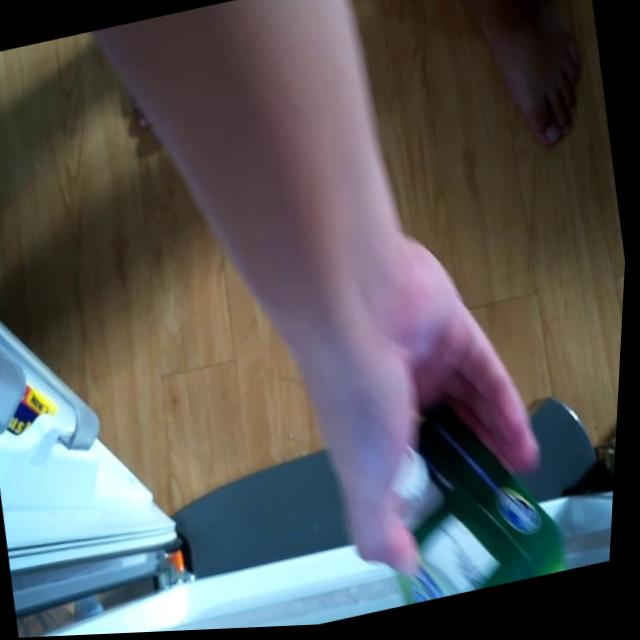milk: (373, 406, 581, 612)
